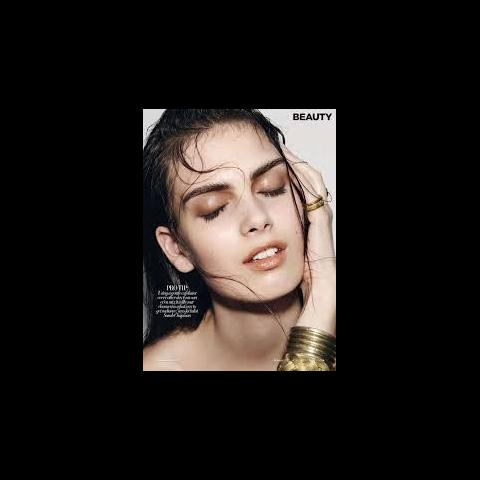closed: (172, 168, 298, 226)
